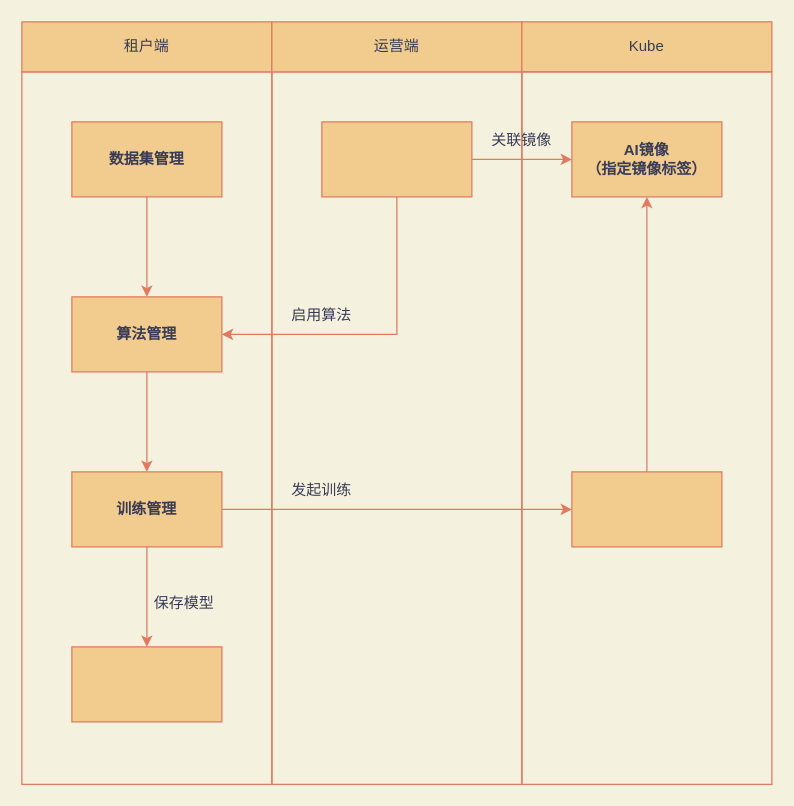
This 794x806 diagram has some shape labels left out. The shapes that lost their labels are listed below. From the top down, each one's centre as x and y in pixels, then its label:
At point 396,159: "预置算法 （设定框架、参数）".
At point 646,509: "AI计算任务".
At point 146,684: "模型管理".
